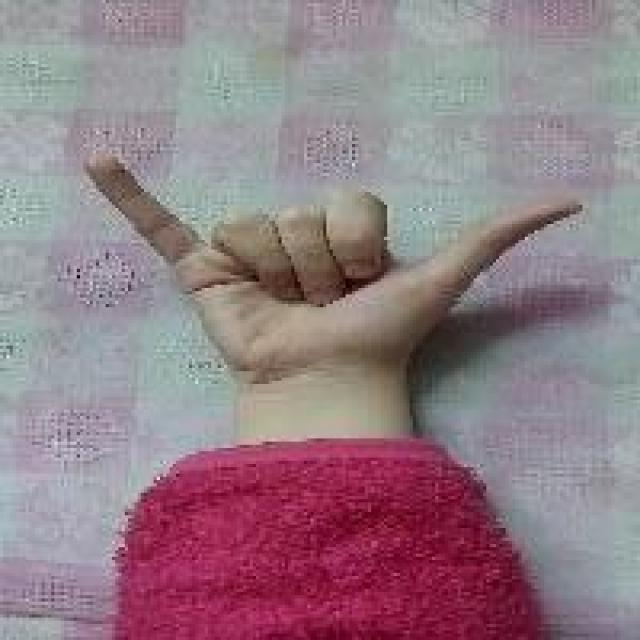Y: (85, 147, 590, 362)
